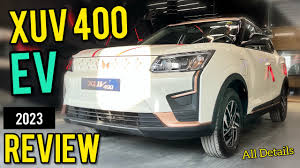XUV 400: (60, 15, 289, 160)
